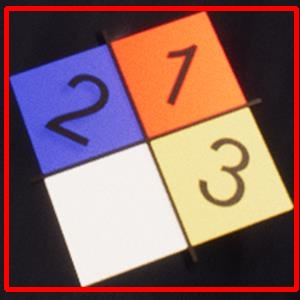nfpa: (6, 8, 296, 289)
